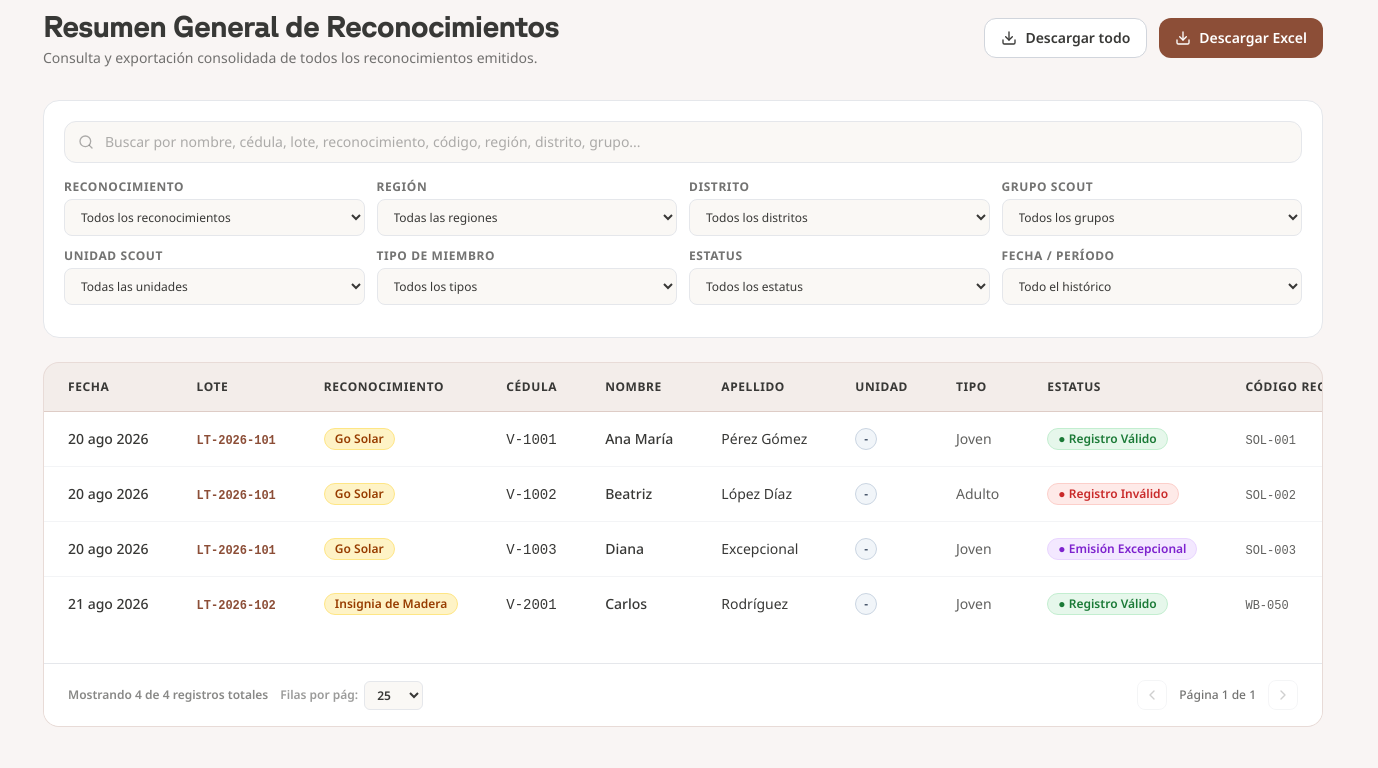
Scenario: SummaryView component › filters data instantaneously using the global search bar across name, cédula, and recognition code
This screenshot has width=1378, height=768.
Expected: the text "V-1001" is shown, [506,432,557,448]
Search by first name
Replace the text in the field named "Búsqueda global" with "Beatriz". click: coordinates (683, 142)
box: [64,121,1302,163]
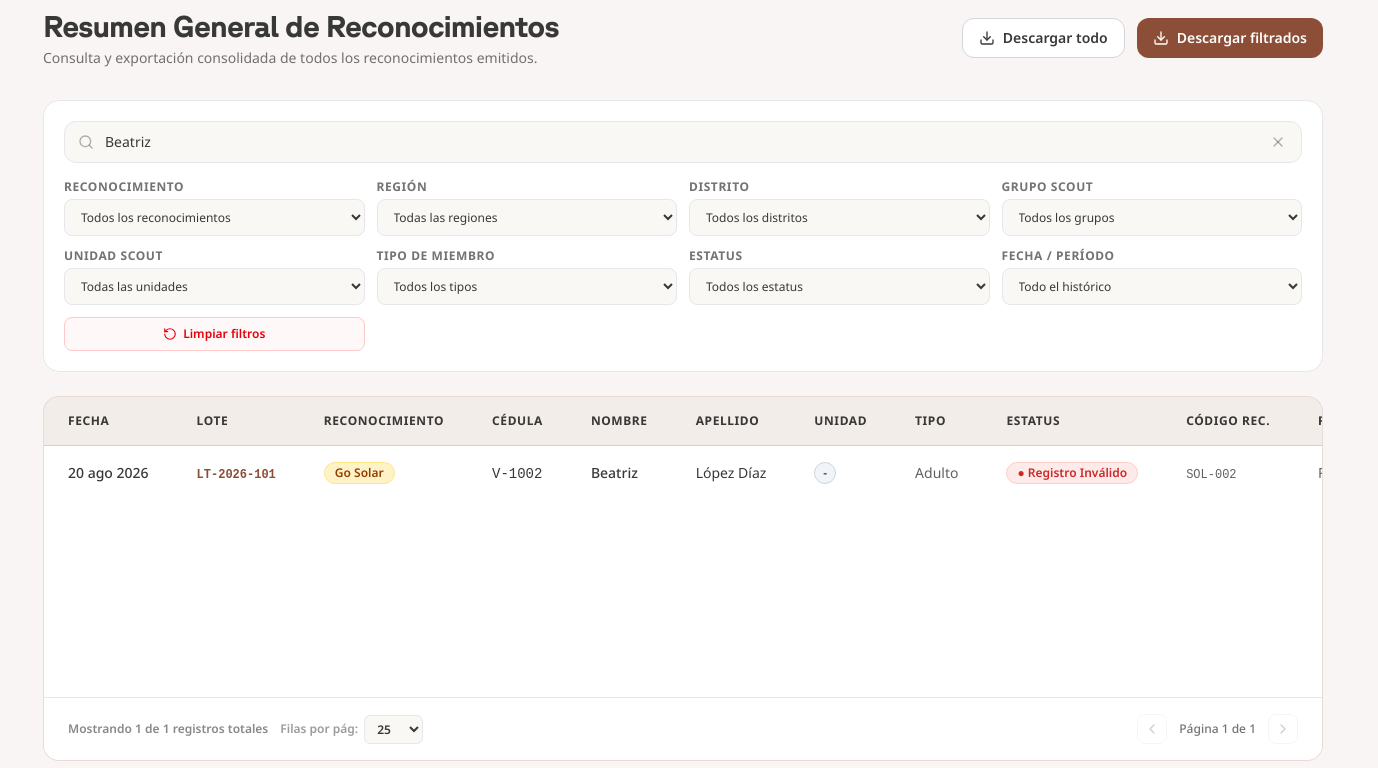
Now the text "V-1002" is shown, box [492,466,542,482]
Now the text "V-1001" is gone
Now the text "V-2001" is gone
Search by cédula
Replace the text in the field named "Búsqueda global" with "V-2001". click: coordinates (683, 142)
box: [64,121,1302,163]
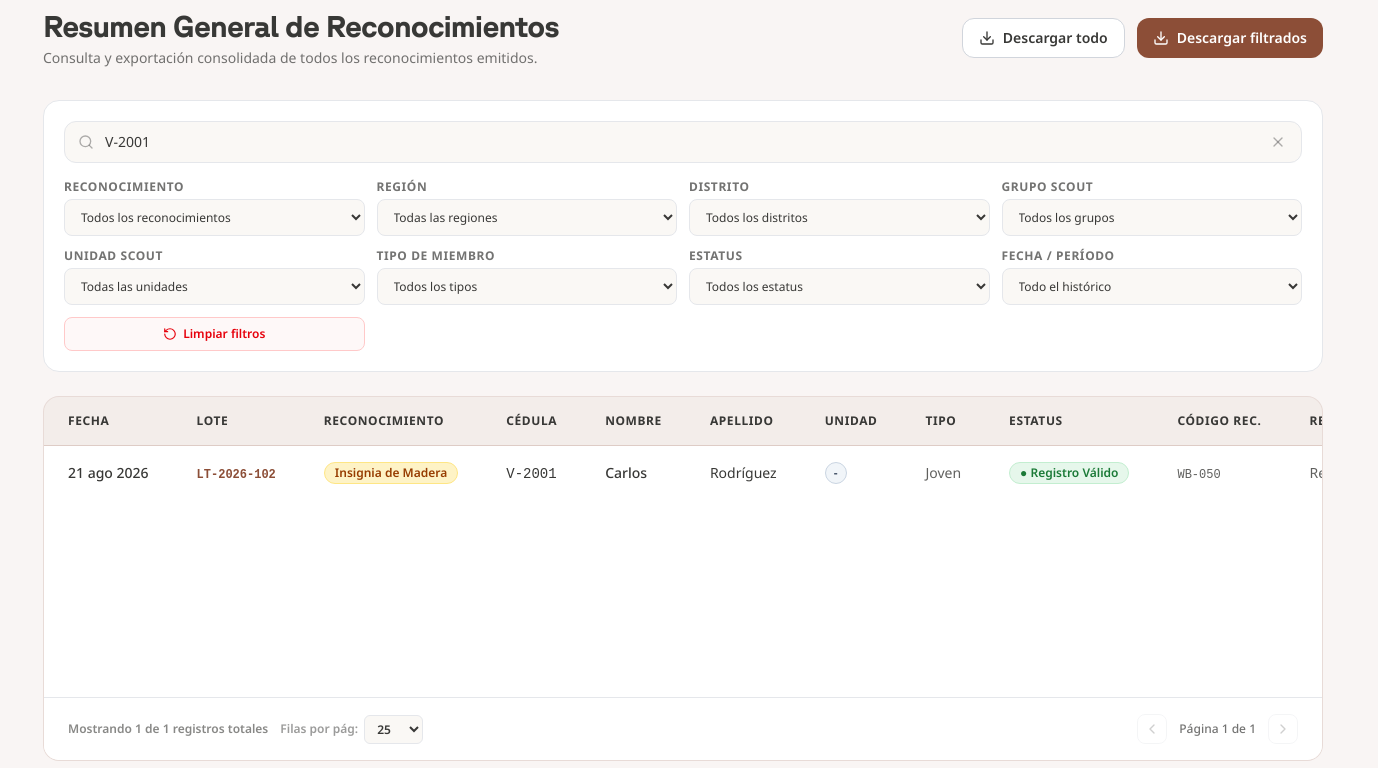
Expected: the text "Ana María" is not shown
Now the text "Carlos" is shown, box [605,463,647,482]
Search by recognition code
Replace the text in the field named "Búsqueda global" with "SOL-001". click: coordinates (683, 142)
box: [64,121,1302,163]
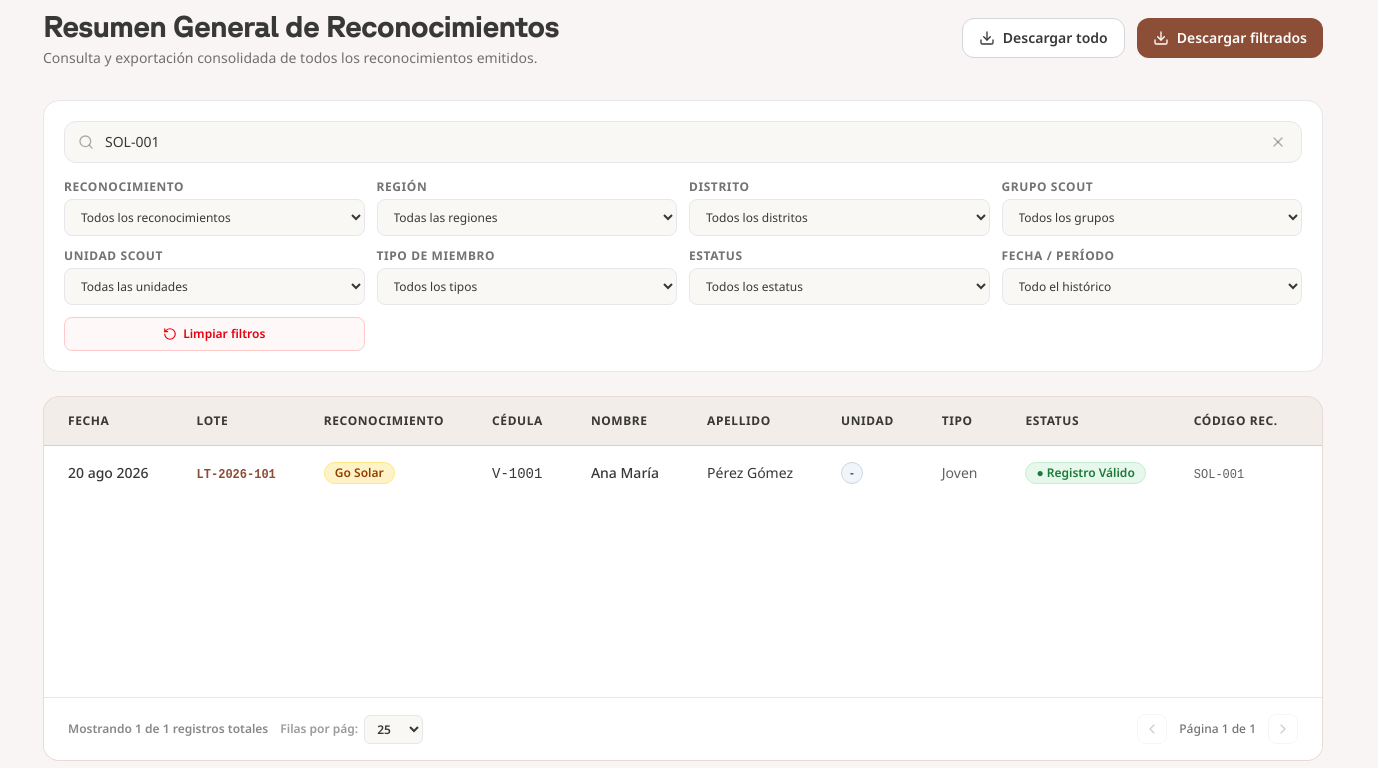
Now the text "Ana María" is shown, box [591,463,659,482]
Now the text "Carlos" is gone
Clear search with clear button
Click the button named "Limpiar búsqueda". click: coordinates (1278, 142)
box: [1266,130,1290,154]
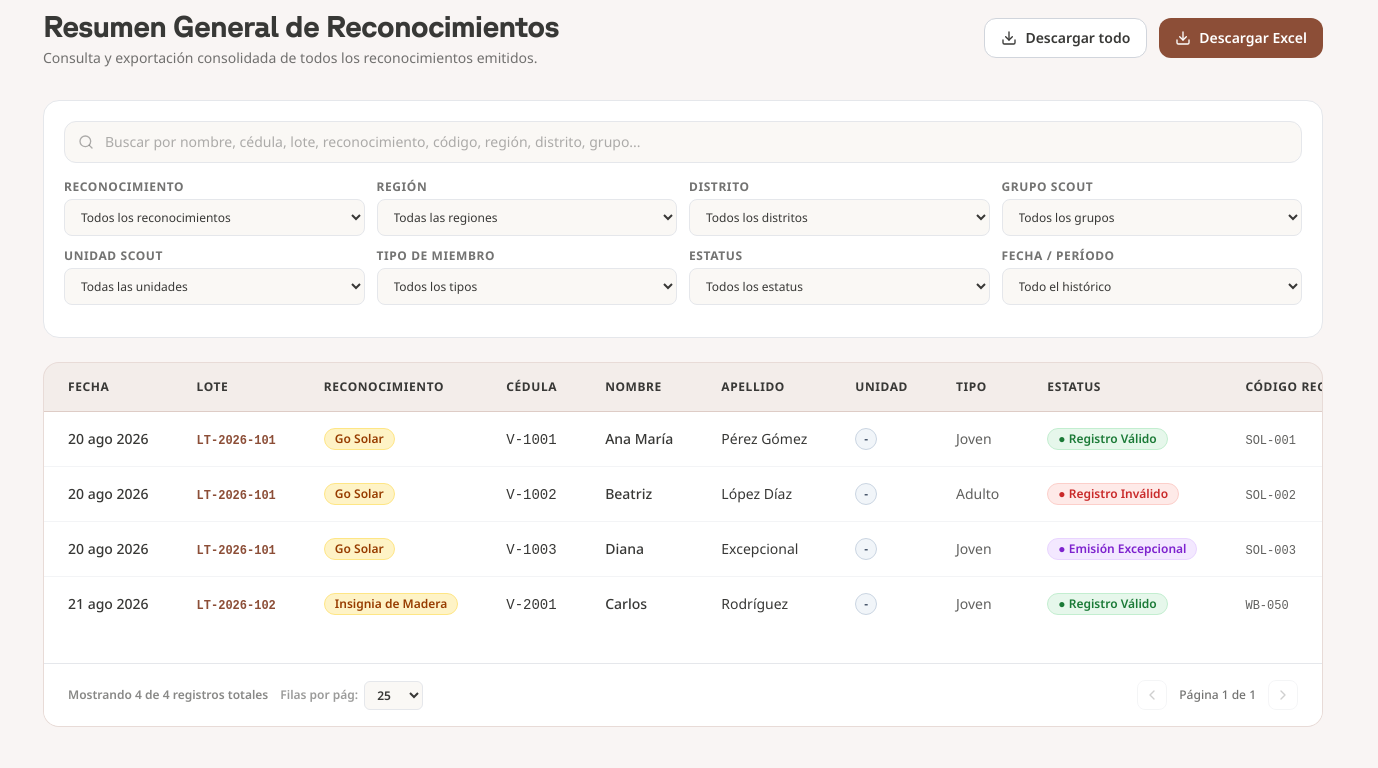
Now the text "V-1001" is shown, box [506,432,557,448]
Now the text "V-2001" is shown, box [506,596,557,612]
